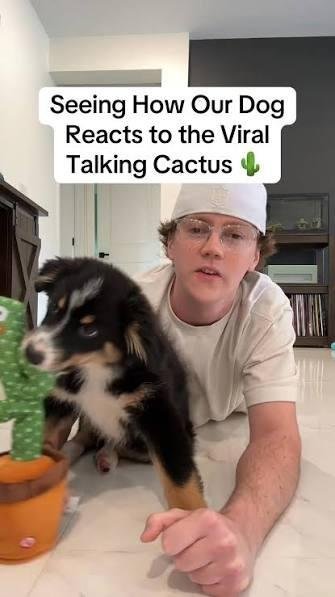puppy-dog: (20, 253, 208, 513)
